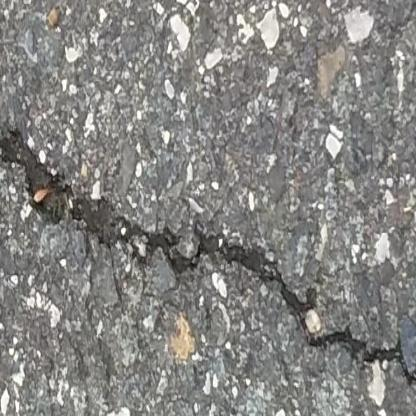Cracks: (0, 129, 416, 391)
